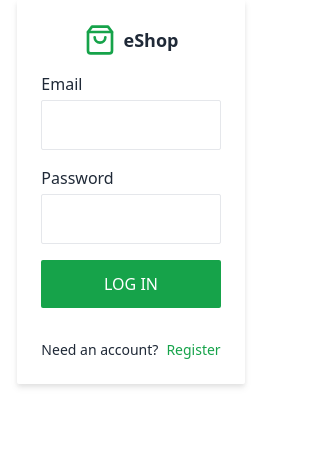
LoginForm component › should show error messages if user is not found
This screenshot has width=320, height=453.
Type "notfound@email.com" into the field labelled "Email".
click(131, 125); type("notfound@email.com")  # box [41, 100, 221, 150]
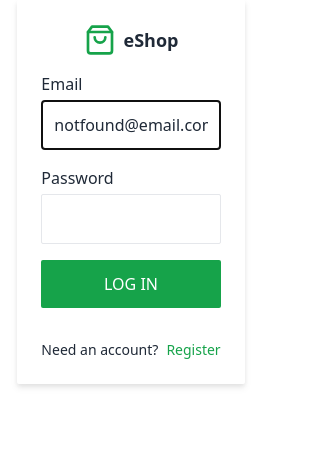
Type "correctPassword" into the password field labelled "Password".
click(131, 219); type("correctPassword")  # box [41, 194, 221, 244]
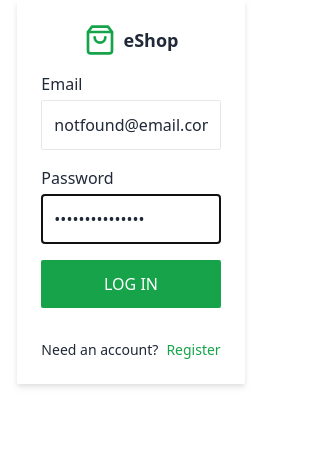
Click the button "Log in".
click(131, 284)  # box [41, 260, 221, 308]
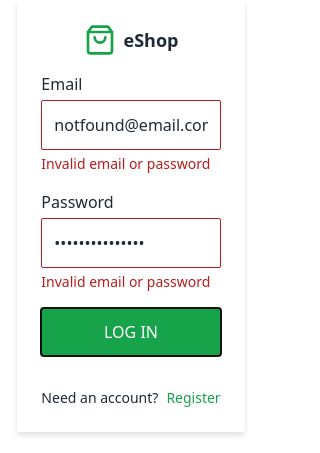
Expected: the text "Invalid email or password" is shown 2 times, [41, 154, 221, 174]; [41, 272, 221, 292]
